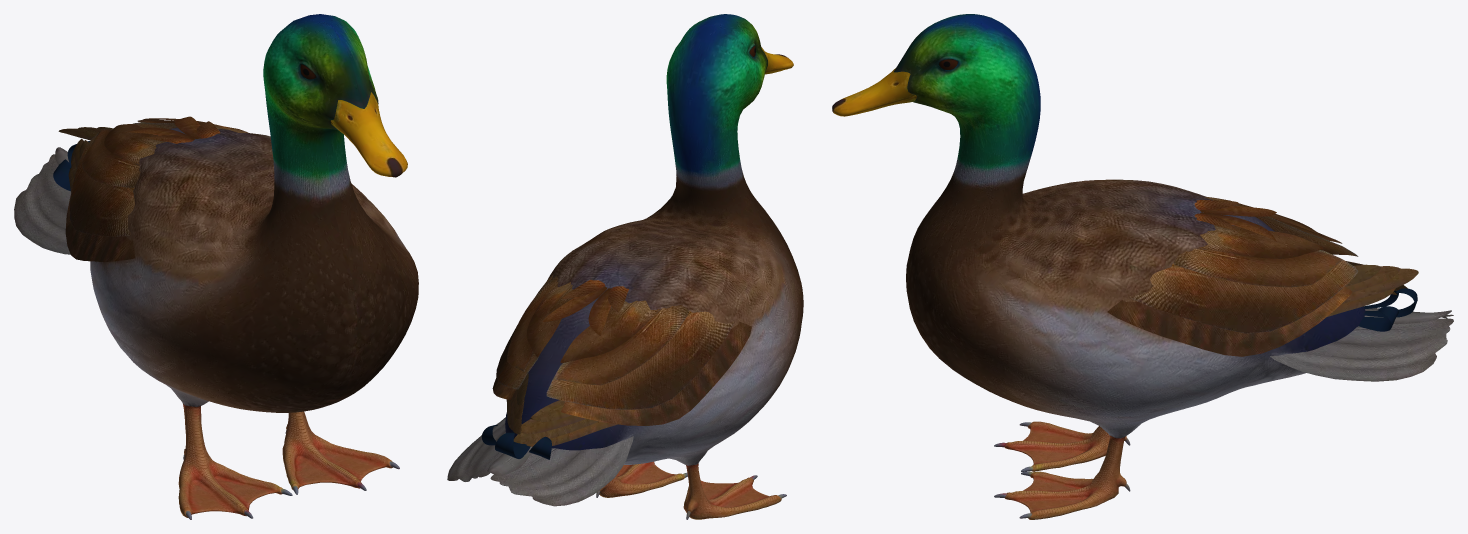
The model's file is duck-1ef909.glb.
3 views of the same model, side by side, from view 1: azimuth 30°, elevation 25°; view 2: azimuth 150°, elevation 25°; view 3: azimuth 270°, elevation 25° (orthographic). The views are drawn at different scales.
Visible parts, largest first — view 1: Object_5; view 2: Object_5; view 3: Object_5.
Boxes of the visible parts, x1,y1,x2,y2 form: Object_5: [14, 14, 418, 519]; Object_5: [447, 14, 803, 519]; Object_5: [832, 14, 1453, 519].
Bounding box in the file's own units: 0.0239 × 0.0444 × 0.0548.
1 material, 1 textured.
